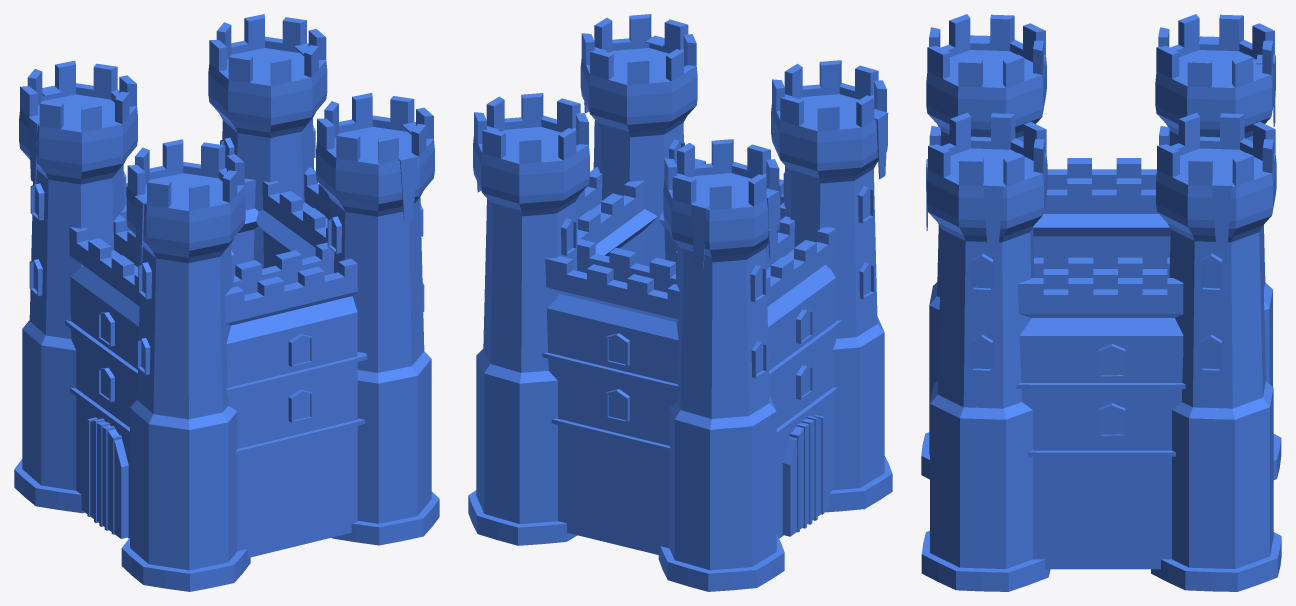
The model's file is Castle_Variant2.fbx.
The picture shows the model from 3 angles, left to right: view 1: azimuth 30°, elevation 25°; view 2: azimuth 150°, elevation 25°; view 3: azimuth 270°, elevation 25°; orthographic projection. The views are drawn at different scales.
Parts seen in each view (by area): view 1: Castle_Variant2; view 2: Castle_Variant2; view 3: Castle_Variant2.
Boxes of the visible parts, x1=… form: Castle_Variant2: x1=14, y1=14, x2=439, y2=591; Castle_Variant2: x1=468, y1=14, x2=892, y2=591; Castle_Variant2: x1=921, y1=14, x2=1281, y2=591.
Size of the model in its own units: 696 by 903 by 691.
